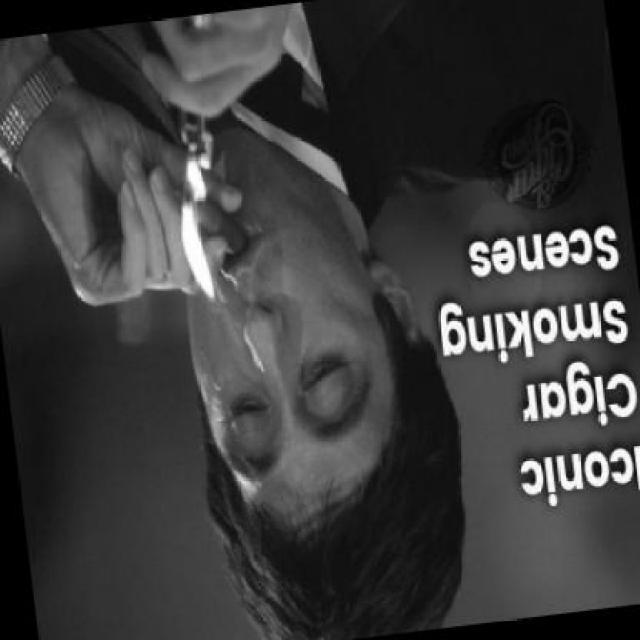smoke: (31, 108, 254, 296)
